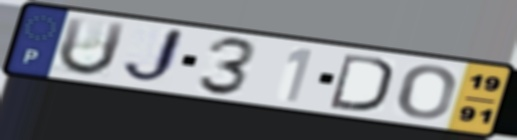1: (284, 47, 315, 104)
3: (197, 35, 258, 97)
D: (327, 51, 396, 114)
J: (118, 25, 189, 87)
O: (396, 63, 459, 121)
U: (54, 15, 130, 78)
